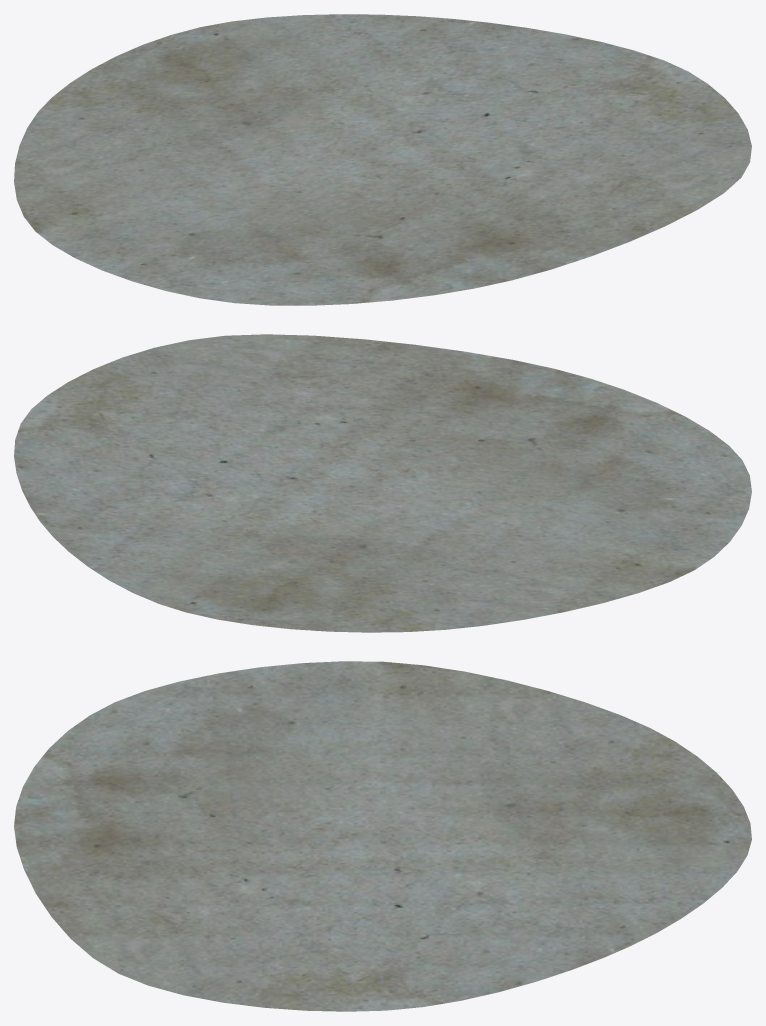
File: stone2.FBX
3 renders of one model, top to bottom at view 1: azimuth 30°, elevation 25°; view 2: azimuth 150°, elevation 25°; view 3: azimuth 270°, elevation 25°, orthographic. The views are drawn at different scales.
Parts seen in each view (by area): view 1: Line01; view 2: Line01; view 3: Line01.
Boxes of the visible parts, x1,y1,x2,y2 form: Line01: (14, 14, 751, 305); Line01: (14, 334, 751, 632); Line01: (14, 661, 751, 1011).
Size of the model in its own units: 54.08 by 2.95e-15 by 48.12.
1 material, 1 textured.
